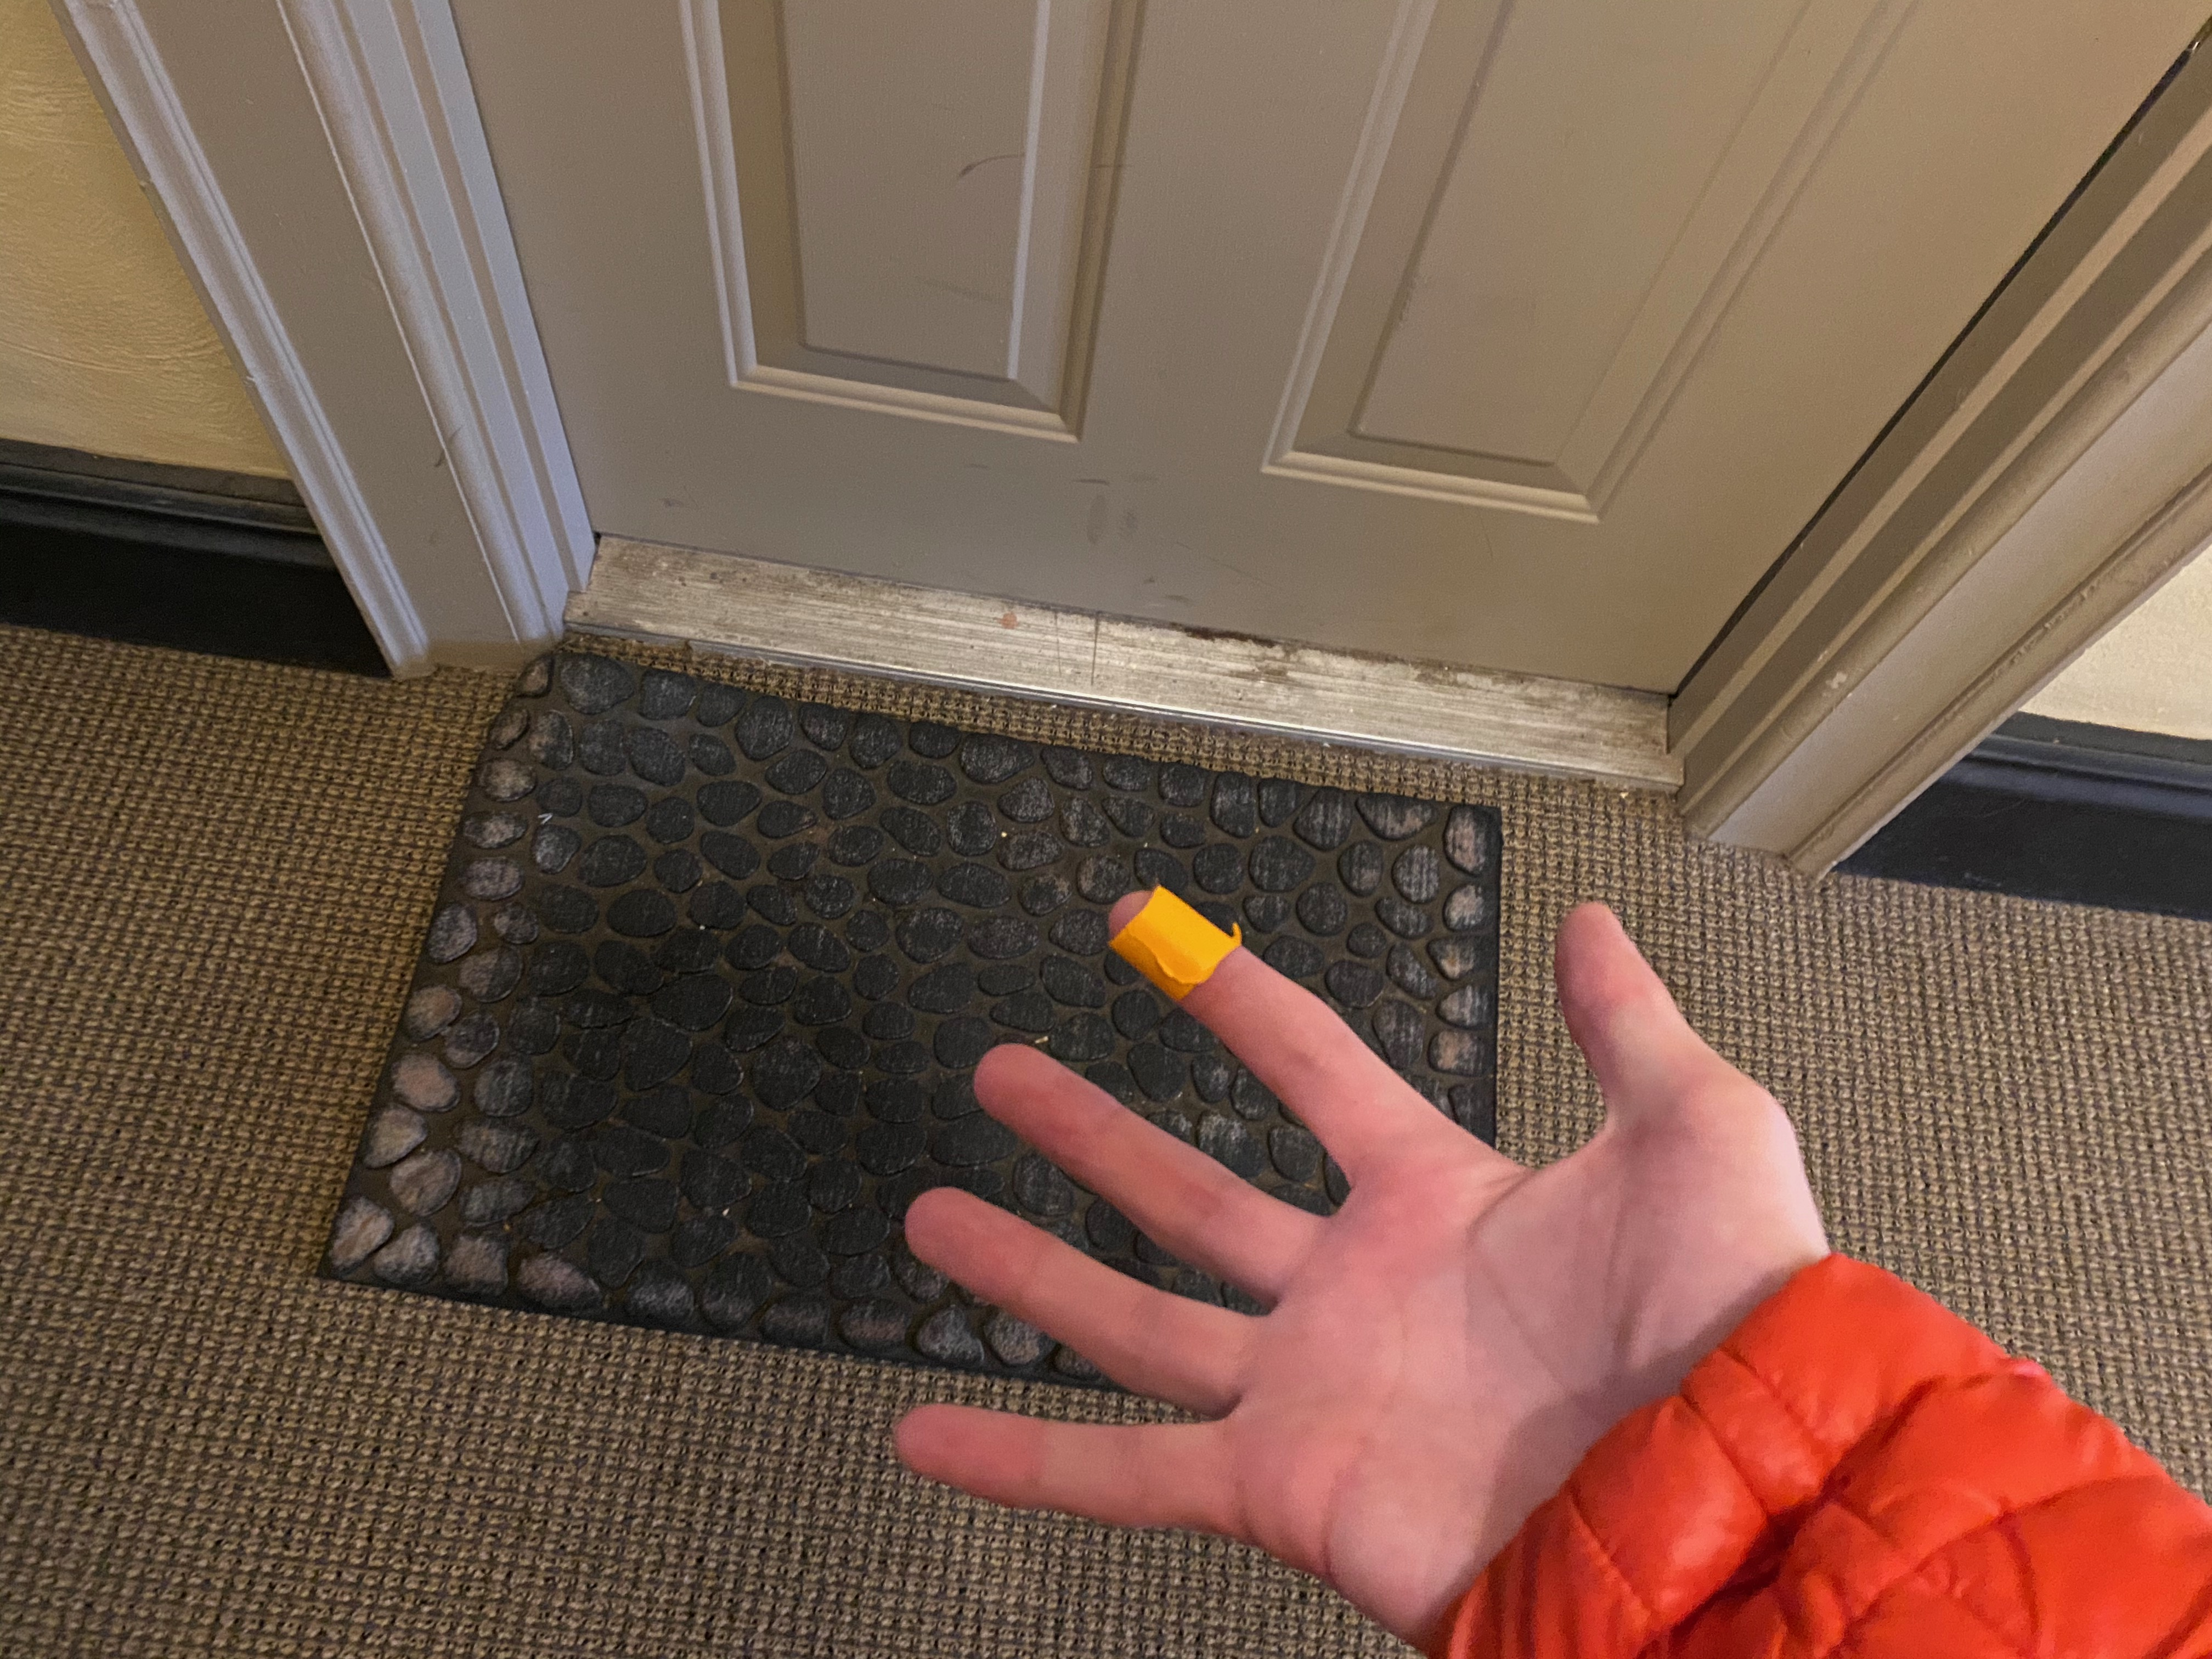fingertip: (1087, 875, 1289, 1023)
